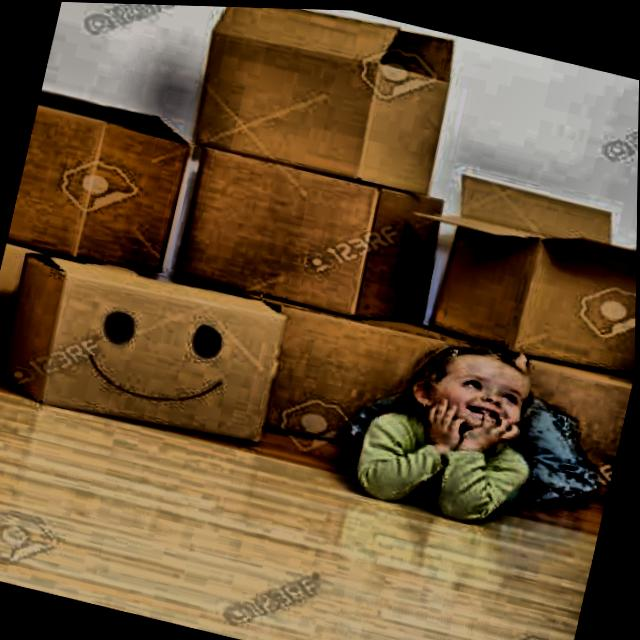Cardbox: (0, 220, 316, 476), (176, 4, 505, 212), (177, 128, 445, 324), (421, 168, 638, 376), (7, 80, 213, 279)
